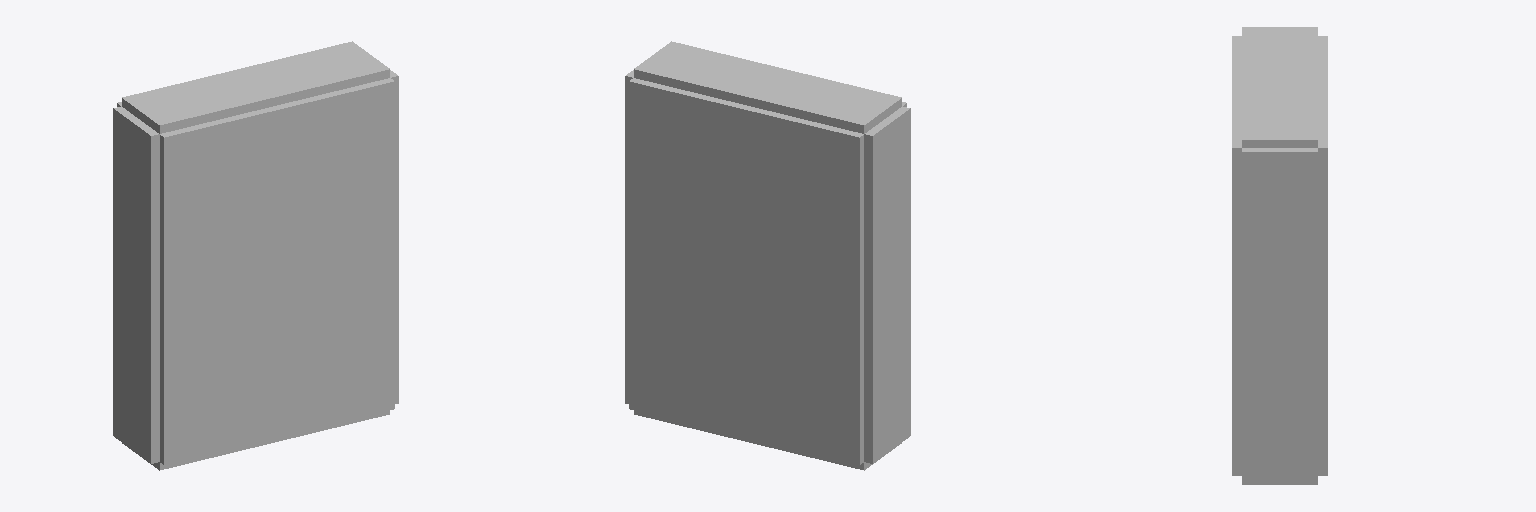
Rendered from wall.obj.
3 views of the same model, side by side, from view 1: azimuth 30°, elevation 25°; view 2: azimuth 150°, elevation 25°; view 3: azimuth 270°, elevation 25° (orthographic).
Parts seen in each view (by area): view 1: object 1; view 2: object 1; view 3: object 1.
Boxes of the visible parts, x1=… form: object 1: x1=113, y1=41, x2=398, y2=470; object 1: x1=625, y1=41, x2=910, y2=470; object 1: x1=1232, y1=27, x2=1327, y2=484.
Bounding box in the file's own units: 3 × 4 × 1.